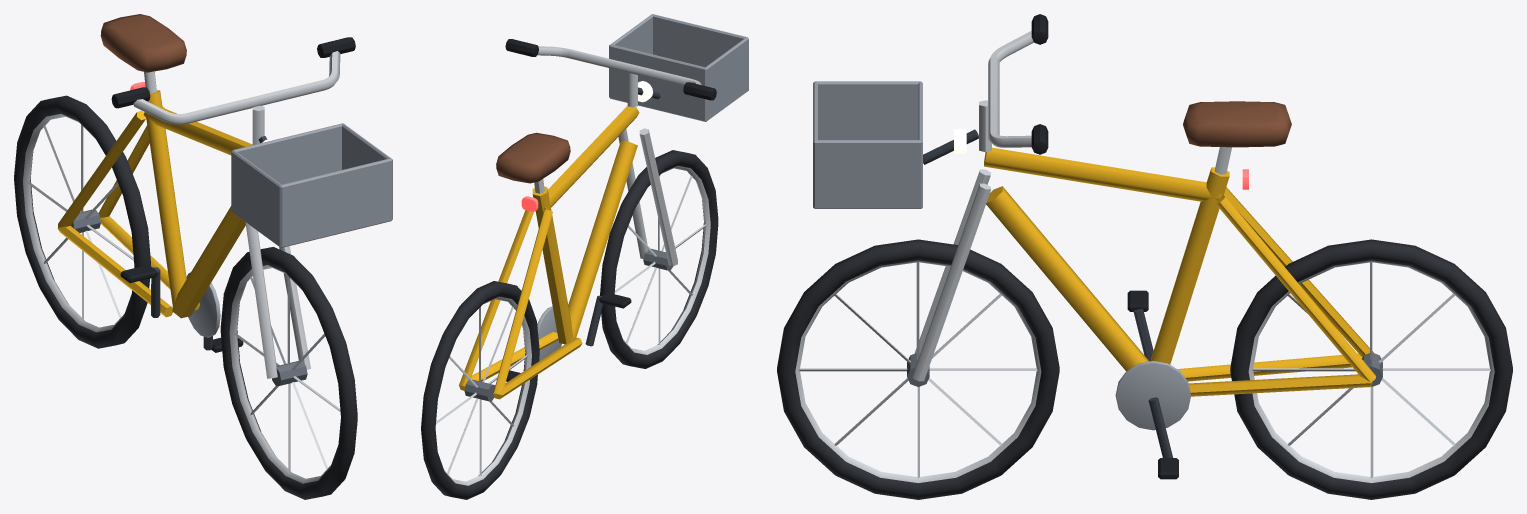
The model's file is bicicleta_amarela.glb.
3 views of the same model, side by side, from view 1: azimuth 30°, elevation 25°; view 2: azimuth 150°, elevation 25°; view 3: azimuth 270°, elevation 25° (orthographic). The views are drawn at different scales.
Visible parts, largest first — view 1: bicicleta_amarela, roda_dianteira, roda_traseira; view 2: bicicleta_amarela, roda_traseira, roda_dianteira; view 3: bicicleta_amarela, roda_dianteira, roda_traseira.
Part boxes in pixels (box(x1,y1,x2,y2)): bicicleta_amarela: box(57, 14, 392, 378); roda_dianteira: box(220, 247, 357, 499); roda_traseira: box(14, 95, 150, 348); bicicleta_amarela: box(459, 14, 748, 399); roda_traseira: box(421, 281, 539, 499); roda_dianteira: box(600, 150, 718, 368); bicicleta_amarela: box(813, 14, 1375, 479); roda_dianteira: box(777, 239, 1059, 499); roda_traseira: box(1230, 239, 1512, 499).
Size of the model in its own units: 0.72 by 1.11 by 1.75.
Materials: 3 (1 with a texture image).
